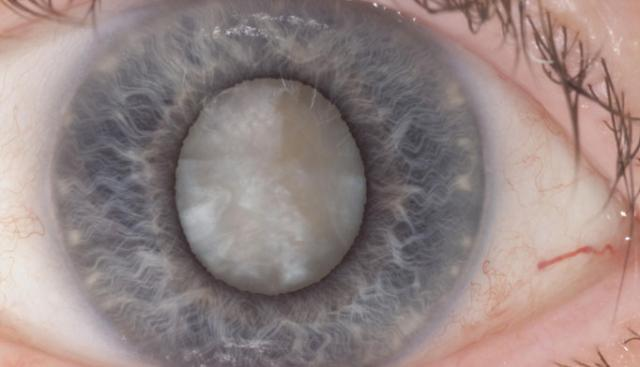eye: (46, 0, 508, 367)
